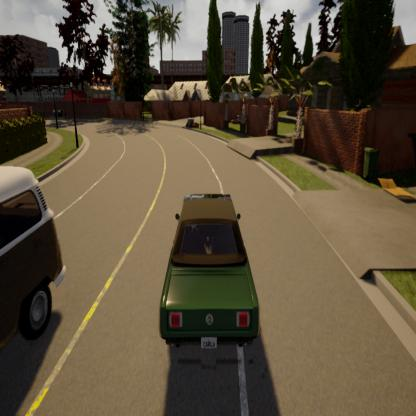Cars: (158, 192, 259, 354), (0, 164, 68, 358)
